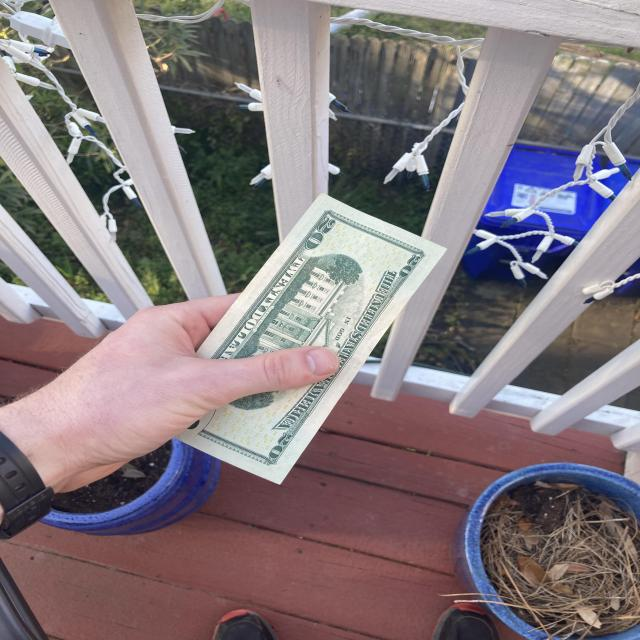twenty: (141, 162, 447, 509)
